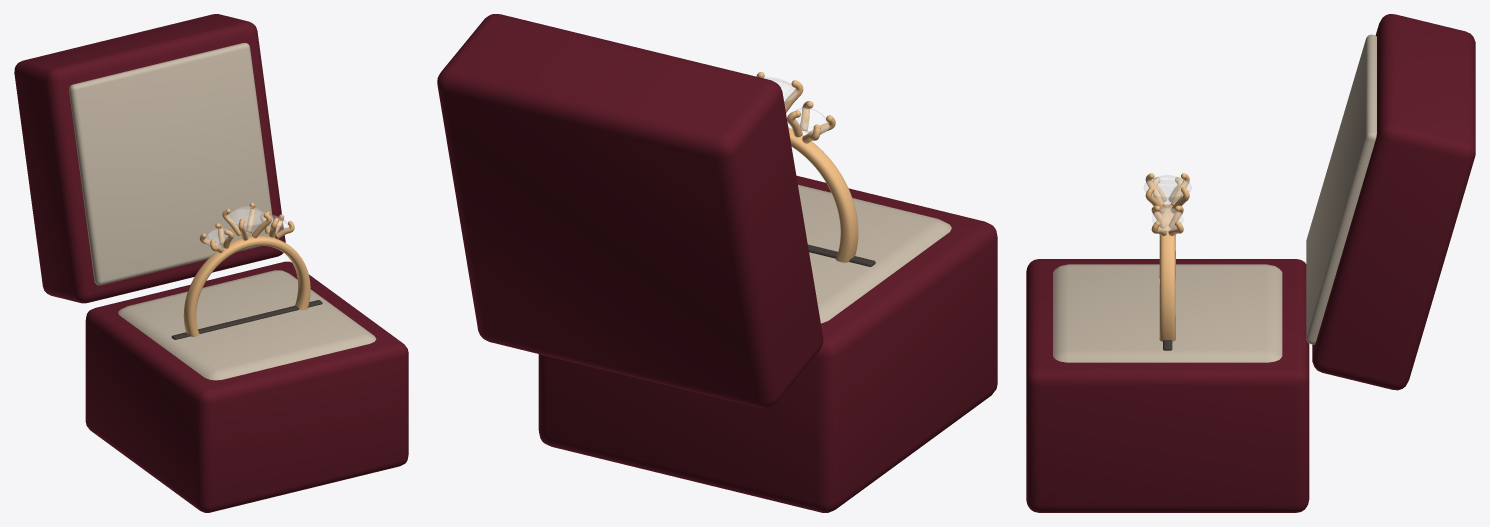
The model's file is box-ring.glb.
3 renders of one model, left to right at view 1: azimuth 30°, elevation 25°; view 2: azimuth 150°, elevation 25°; view 3: azimuth 270°, elevation 25°, orthographic. The views are drawn at different scales.
Visible parts, largest first — view 1: box_base, box_lid_padding, box_lid, box_cushion, metal_band, metal_head, box_slit, diamond; view 2: box_lid, box_base, box_cushion, metal_band, metal_head; view 3: box_base, box_lid, box_cushion, box_lid_padding, metal_band, metal_head, diamond, diamond.002.
Boxes of the visible parts, x1,y1,x2,y2 form: box_base: [85, 261, 408, 512]; box_lid_padding: [69, 43, 275, 285]; box_lid: [14, 14, 285, 303]; box_cushion: [118, 270, 376, 380]; metal_band: [183, 235, 310, 336]; metal_head: [199, 202, 294, 253]; box_slit: [171, 300, 322, 339]; diamond: [227, 206, 266, 233]; box_lid: [437, 14, 823, 408]; box_base: [538, 175, 997, 512]; box_cushion: [798, 184, 951, 323]; metal_band: [788, 127, 858, 262]; metal_head: [756, 72, 835, 143]; box_base: [1026, 259, 1309, 512]; box_lid: [1312, 14, 1475, 390]; box_cushion: [1053, 264, 1282, 362]; box_lid_padding: [1306, 34, 1376, 344]; metal_band: [1159, 204, 1175, 341]; metal_head: [1145, 173, 1189, 236]; diamond: [1144, 175, 1191, 206]; diamond.002: [1152, 207, 1183, 231].
Size of the model in its own units: 34 by 51.47 by 54.02.
